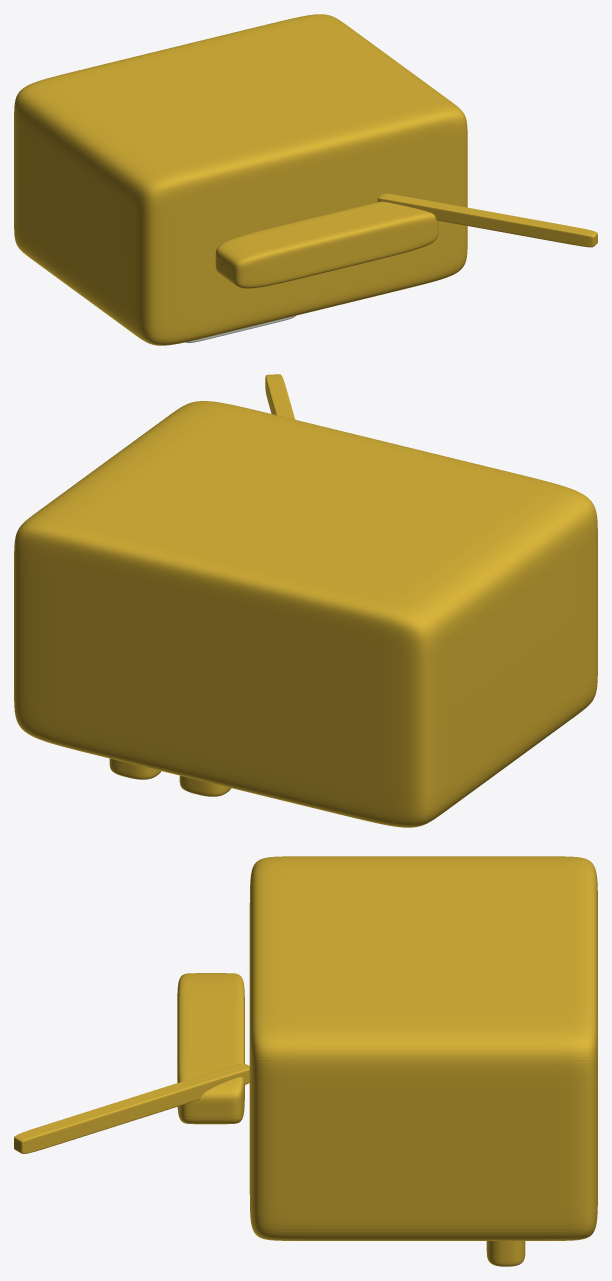
File: vintage_radio_sq.glb
3 renders of one model, top to bottom at view 1: azimuth 30°, elevation 25°; view 2: azimuth 150°, elevation 25°; view 3: azimuth 270°, elevation 25°, orthographic. The views are drawn at different scales.
Parts seen in each view (by area): view 1: superquadric_0, superquadric_6, superquadric_5; view 2: superquadric_0, superquadric_5, superquadric_4, superquadric_3; view 3: superquadric_0, superquadric_6, superquadric_5, superquadric_4.
Part boxes in pixels (left/top/right/bottom): superquadric_0: left=14, top=14, right=467, bottom=345; superquadric_6: left=215, top=201, right=438, bottom=288; superquadric_5: left=377, top=193, right=597, bottom=247; superquadric_0: left=14, top=401, right=597, bottom=827; superquadric_5: left=265, top=374, right=294, bottom=419; superquadric_4: left=109, top=758, right=161, bottom=779; superquadric_3: left=179, top=775, right=231, bottom=796; superquadric_0: left=249, top=856, right=597, bottom=1240; superquadric_6: left=177, top=973, right=244, bottom=1124; superquadric_5: left=14, top=1063, right=249, bottom=1153; superquadric_4: left=486, top=1241, right=525, bottom=1266.
Size of the model in its own units: 0.87 by 0.482 by 1.
